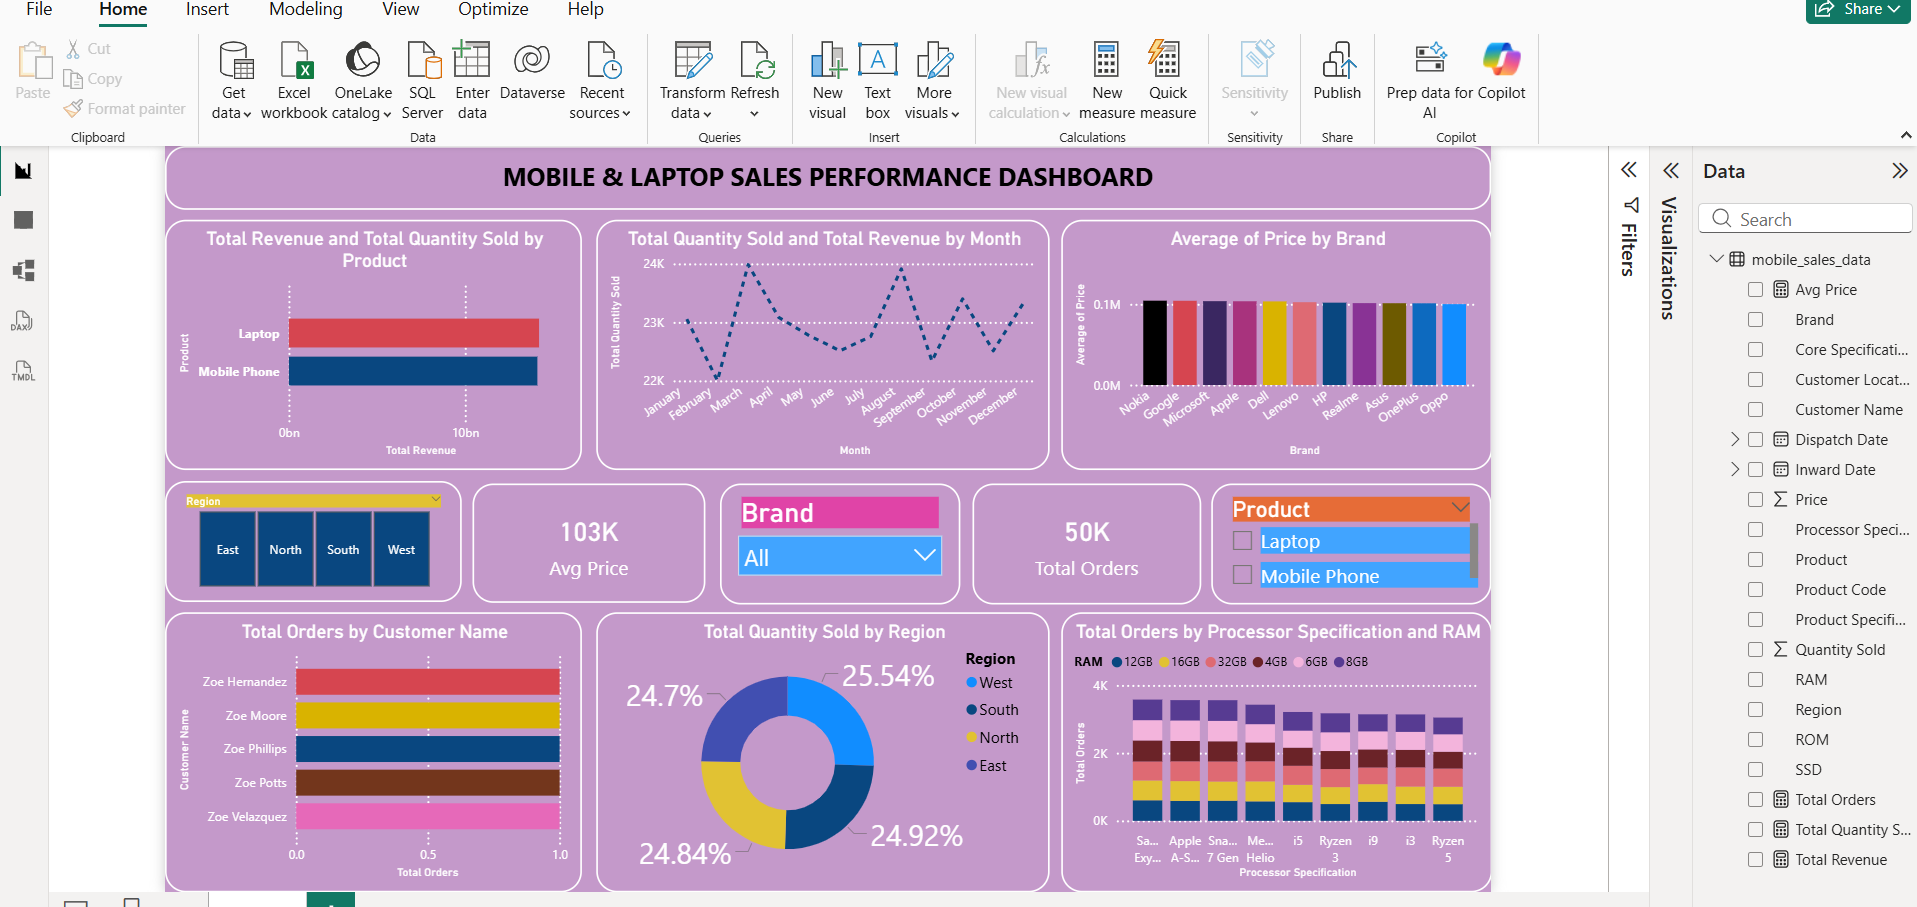

Layout of this report page (visuals, bound fields, positions):
{"tool":"powerbi","page":{"name":"DAY 12","canvas":[1280,720],"ordinal":0},"visuals":[{"type":"card","fields":{"Values":["mobile_sales_data.Total Quantity Sold"]},"box":[697.1,192.1,138.6,116.6],"z":0},{"type":"card","fields":{"Values":["mobile_sales_data.Total Orders"]},"box":[452.8,535.2,201.7,119.4],"z":1000},{"type":"card","fields":{"Values":["mobile_sales_data.Avg Price"]},"box":[296.4,325.2,225,115.3],"z":2000},{"type":"clusteredBarChart","fields":{"Category":["mobile_sales_data.Product"],"Y":["mobile_sales_data.Total Revenue"]},"box":[0,71.4,402.1,241.5],"z":3000},{"type":"lineChart","fields":{"Category":["mobile_sales_data.Dispatch Date.Variation.Date Hierarchy.Month"],"Y":["mobile_sales_data.Total Quantity Sold"]},"box":[415.8,71.4,437.7,241.5],"z":4000},{"type":"donutChart","fields":{"Category":["mobile_sales_data.Region"],"Y":["mobile_sales_data.Total Quantity Sold"]},"box":[415.8,450.1,437.7,270.3],"z":5000},{"type":"columnChart","fields":{"Category":["mobile_sales_data.Brand"],"Y":["Avg(mobile_sales_data.Price)"]},"box":[864.5,71.4,415.8,241.5],"z":6000},{"type":"columnChart","fields":{"Category":["mobile_sales_data.Processor Specification"],"Series":["mobile_sales_data.RAM"],"Y":["mobile_sales_data.Total Orders"]},"box":[864.5,450.1,415.8,270.3],"z":7000},{"type":"clusteredBarChart","fields":{"Category":["mobile_sales_data.Customer Name"],"Y":["mobile_sales_data.Total Orders"]},"box":[0,450.1,402.1,270.3],"z":8000},{"type":"slicer","fields":{"Values":["mobile_sales_data.Product"]},"box":[1010,325.2,270.3,116.6],"z":9000},{"type":"slicer","fields":{"Values":["mobile_sales_data.Brand"]},"box":[535.2,325.2,231.9,116.6],"z":10000},{"type":"slicer","fields":{"Values":["mobile_sales_data.Region"]},"box":[0,323.8,286.8,116.6],"z":11000},{"type":"textbox","box":[0,0,1280.3,61.7],"z":12000},{"type":"card","fields":{"Values":["mobile_sales_data.Total Orders"]},"box":[779.4,325.2,220.9,116.6],"z":13000}]}

Visuals, with their boxes on the page's 1280x720 design canvas (x1, y1, x2, y2). These are canvas units, not pixel positions in the 1917x907 screenshot, which may show the page scaled, cropped or inside an application window:
card - mobile_sales_data.Total Quantity Sold: select_region(697, 192, 836, 309)
card - mobile_sales_data.Total Orders: select_region(453, 535, 654, 655)
card - mobile_sales_data.Avg Price: select_region(296, 325, 521, 440)
clusteredBarChart - mobile_sales_data.Product x mobile_sales_data.Total Revenue: select_region(0, 71, 402, 313)
lineChart - mobile_sales_data.Dispatch Date.Variation.Date Hierarchy.Month x mobile_sales_data.Total Quantity Sold: select_region(416, 71, 854, 313)
donutChart - mobile_sales_data.Region x mobile_sales_data.Total Quantity Sold: select_region(416, 450, 854, 720)
columnChart - mobile_sales_data.Brand x Avg(mobile_sales_data.Price): select_region(864, 71, 1280, 313)
columnChart - mobile_sales_data.Processor Specification x mobile_sales_data.RAM: select_region(864, 450, 1280, 720)
clusteredBarChart - mobile_sales_data.Customer Name x mobile_sales_data.Total Orders: select_region(0, 450, 402, 720)
slicer - mobile_sales_data.Product: select_region(1010, 325, 1280, 442)
slicer - mobile_sales_data.Brand: select_region(535, 325, 767, 442)
slicer - mobile_sales_data.Region: select_region(0, 324, 287, 440)
textbox: select_region(0, 0, 1280, 62)
card - mobile_sales_data.Total Orders: select_region(779, 325, 1000, 442)
